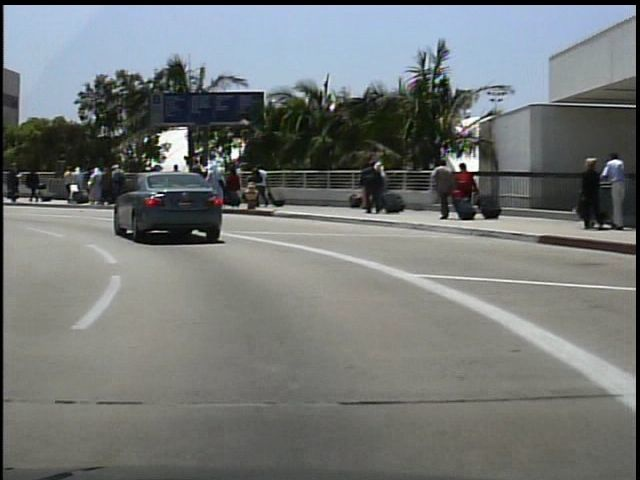person: (598, 148, 630, 230), (573, 154, 604, 232), (429, 158, 456, 224), (357, 158, 383, 217), (451, 160, 475, 218), (5, 157, 24, 202), (256, 160, 272, 208), (24, 165, 42, 203), (9, 165, 26, 203)
